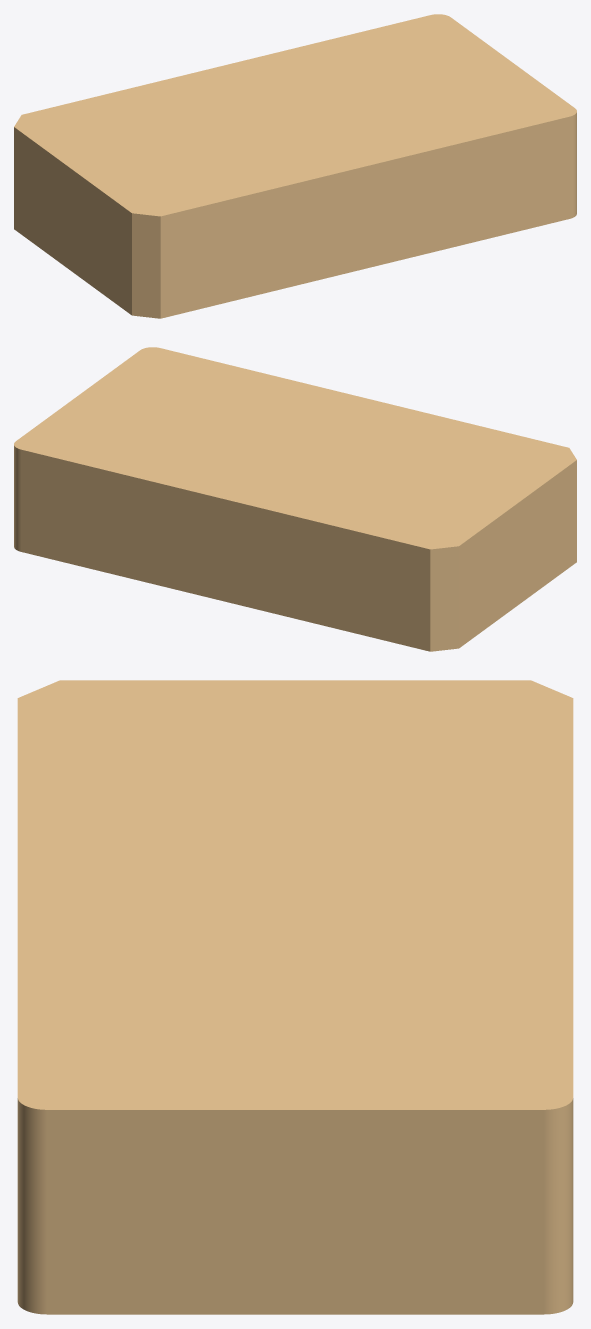
File: Component1_1__Body1.gltf
3 renders of one model, top to bottom at view 1: azimuth 30°, elevation 25°; view 2: azimuth 150°, elevation 25°; view 3: azimuth 270°, elevation 25°, orthographic. The views are drawn at different scales.
Visible parts, largest first — view 1: mesh372, mesh369, mesh367, mesh368, mesh370; view 2: mesh372, mesh375, mesh367, mesh366, mesh374; view 3: mesh372, mesh373, mesh370, mesh374.
Boxes of the visible parts, left/top/right/bottom form: mesh372: left=14, top=14, right=576, bottom=216; mesh369: left=160, top=116, right=569, bottom=318; mesh367: left=14, top=127, right=131, bottom=315; mesh368: left=132, top=213, right=160, bottom=318; mesh370: left=569, top=112, right=576, bottom=218; mesh372: left=14, top=347, right=576, bottom=549; mesh375: left=21, top=449, right=430, bottom=651; mesh367: left=459, top=460, right=576, bottom=648; mesh366: left=430, top=546, right=458, bottom=651; mesh374: left=14, top=445, right=21, bottom=551; mesh372: left=17, top=680, right=573, bottom=1109; mesh373: left=47, top=1110, right=543, bottom=1314; mesh370: left=17, top=1098, right=46, bottom=1314; mesh374: left=544, top=1098, right=573, bottom=1314.
Bounding box in the file's own units: 0.045 × 0.01 × 0.0246.
